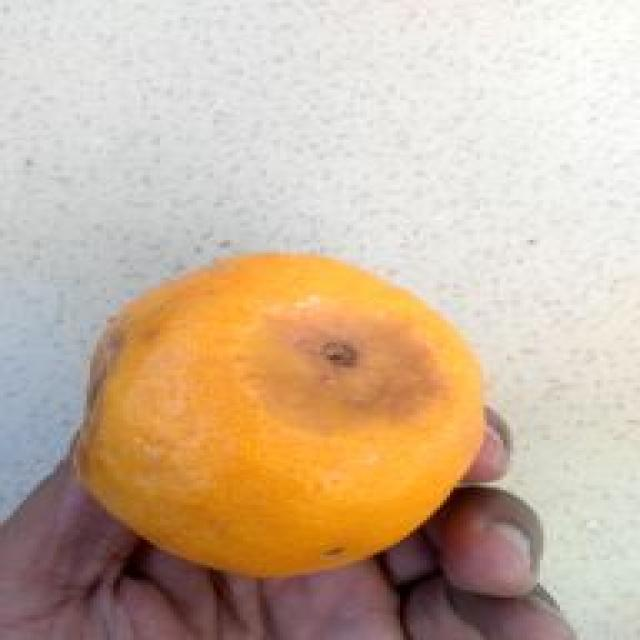Bad_Orange: (77, 254, 485, 577)
